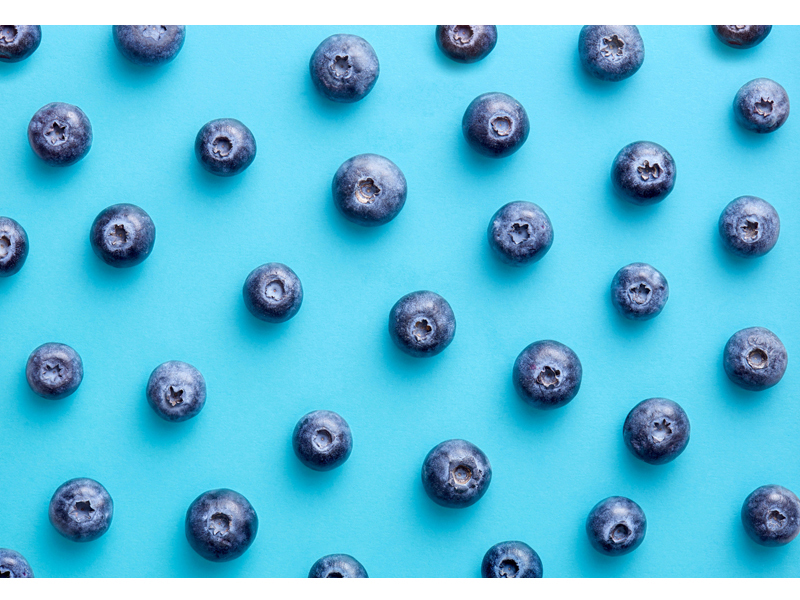blueberry: (327, 146, 411, 228), (304, 28, 389, 108), (183, 484, 264, 562), (382, 284, 462, 362), (419, 431, 496, 512), (84, 196, 161, 274), (508, 339, 587, 414), (620, 389, 695, 468), (459, 88, 536, 164), (611, 127, 682, 209), (41, 470, 117, 546), (185, 109, 259, 186), (23, 93, 97, 168), (581, 487, 654, 561), (487, 194, 558, 266), (287, 404, 358, 476), (606, 253, 674, 326), (713, 193, 786, 260), (145, 356, 210, 428), (239, 256, 304, 328), (20, 334, 87, 403), (728, 70, 791, 138)
